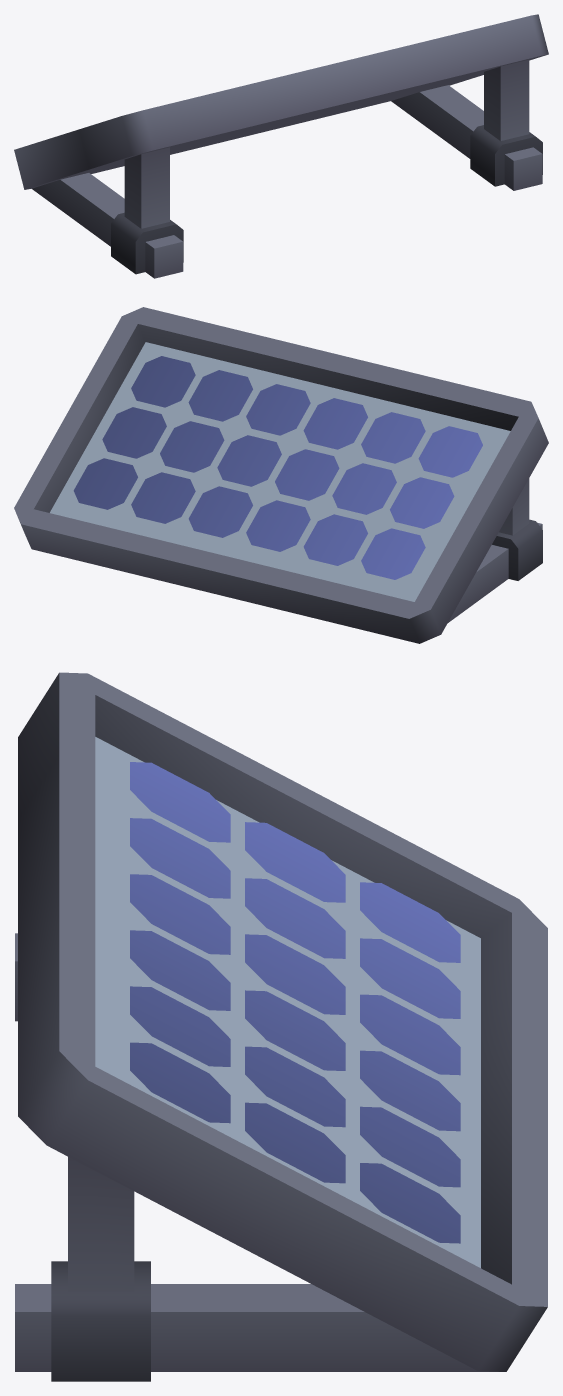
Rendered from industrial-solar-panel-landscape.glb.
3 renders of one model, top to bottom at view 1: azimuth 30°, elevation 25°; view 2: azimuth 150°, elevation 25°; view 3: azimuth 270°, elevation 25°, orthographic. The views are drawn at different scales.
Parts seen in each view (by area): view 1: solar-panel-landscape; view 2: solar-panel-landscape; view 3: solar-panel-landscape.
Part boxes in pixels (x1,y1,x2,y2): solar-panel-landscape: (14,14,548,278); solar-panel-landscape: (14,307,548,643); solar-panel-landscape: (15,672,547,1381).
Size of the model in its own units: 0.7134 by 0.2624 by 0.3951.
